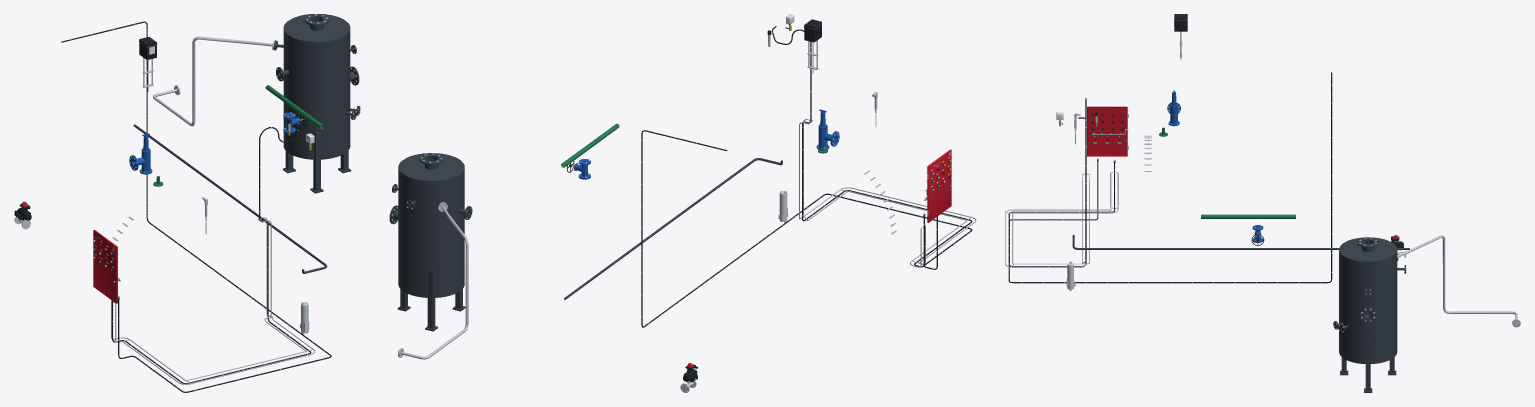
3 renders of one model, left to right at view 1: azimuth 30°, elevation 25°; view 2: azimuth 150°, elevation 25°; view 3: azimuth 270°, elevation 25°, orthographic. The views are drawn at different scales.
Visible parts, largest first — view 1: separator_bdv60_5 / dark, cabinet_door / cabinet_door_5.npz, cables / zinc, mod_direct_drive_cable / black, wiring_pressure_switch_2 / black, trap_gap_to_bdv / steel, tds_common / dark, safety_1 / blue, pump_delivery / green, bcv7432 / bcv7432_0.npz, gpz_drive / black; view 2: separator_bdv60_5 / dark, cabinet_door / cabinet_door_5.npz, mod_direct_drive_cable / black, cables / zinc, wiring_pressure_switch_2 / black, trap_gap_to_bdv / steel, tds_common / dark, safety_1 / blue; view 3: separator_bdv60_5 / dark, cabinet_door / cabinet_door_5.npz, mod_direct_drive_cable / black, cables / zinc, wiring_pressure_switch_2 / black, trap_gap_to_bdv / steel, tds_common / dark, pump_delivery / green.
Part boxes in pixels (bbox=[...]): separator_bdv60_5 / dark: bbox=[273, 14, 360, 193]; cabinet_door / cabinet_door_5.npz: bbox=[93, 230, 117, 303]; cables / zinc: bbox=[111, 217, 315, 384]; mod_direct_drive_cable / black: bbox=[61, 21, 331, 392]; wiring_pressure_switch_2 / black: bbox=[112, 127, 311, 383]; trap_gap_to_bdv / steel: bbox=[153, 36, 275, 126]; tds_common / dark: bbox=[133, 124, 327, 273]; safety_1 / blue: bbox=[129, 133, 152, 174]; pump_delivery / green: bbox=[265, 85, 324, 129]; bcv7432 / bcv7432_0.npz: bbox=[14, 201, 31, 229]; gpz_drive / black: bbox=[139, 36, 156, 59]; separator_bdv60_5 / dark: bbox=[389, 153, 472, 331]; cabinet_door / cabinet_door_5.npz: bbox=[926, 149, 951, 222]; mod_direct_drive_cable / black: bbox=[641, 130, 972, 327]; cables / zinc: bbox=[799, 119, 976, 267]; wiring_pressure_switch_2 / black: bbox=[772, 26, 972, 267]; trap_gap_to_bdv / steel: bbox=[398, 202, 468, 359]; tds_common / dark: bbox=[564, 158, 782, 299]; safety_1 / blue: bbox=[816, 109, 839, 150]; separator_bdv60_5 / dark: bbox=[1333, 237, 1405, 392]; cabinet_door / cabinet_door_5.npz: bbox=[1087, 106, 1128, 156]; mod_direct_drive_cable / black: bbox=[1008, 72, 1332, 283]; cables / zinc: bbox=[1005, 172, 1118, 267]; wiring_pressure_switch_2 / black: bbox=[1008, 98, 1115, 266]; trap_gap_to_bdv / steel: bbox=[1397, 235, 1520, 327]; tds_common / dark: bbox=[1072, 235, 1409, 249]; pump_delivery / green: bbox=[1201, 214, 1295, 218].
Size of the model in its own units: 5.32 by 3.58 by 6.78.
